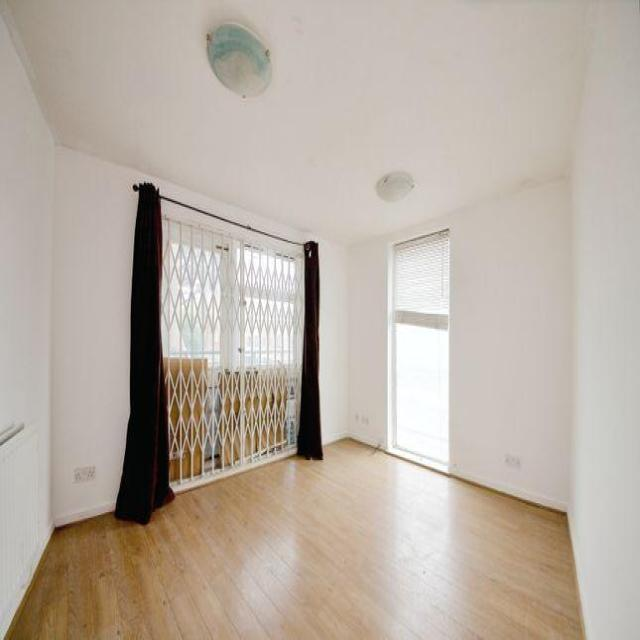Wall: (6, 0, 586, 241), (11, 441, 581, 639), (349, 180, 571, 507), (569, 0, 640, 639), (0, 15, 55, 637), (52, 148, 137, 494), (319, 240, 370, 443), (154, 0, 354, 46), (365, 167, 476, 237), (450, 454, 568, 511), (54, 459, 120, 526)
